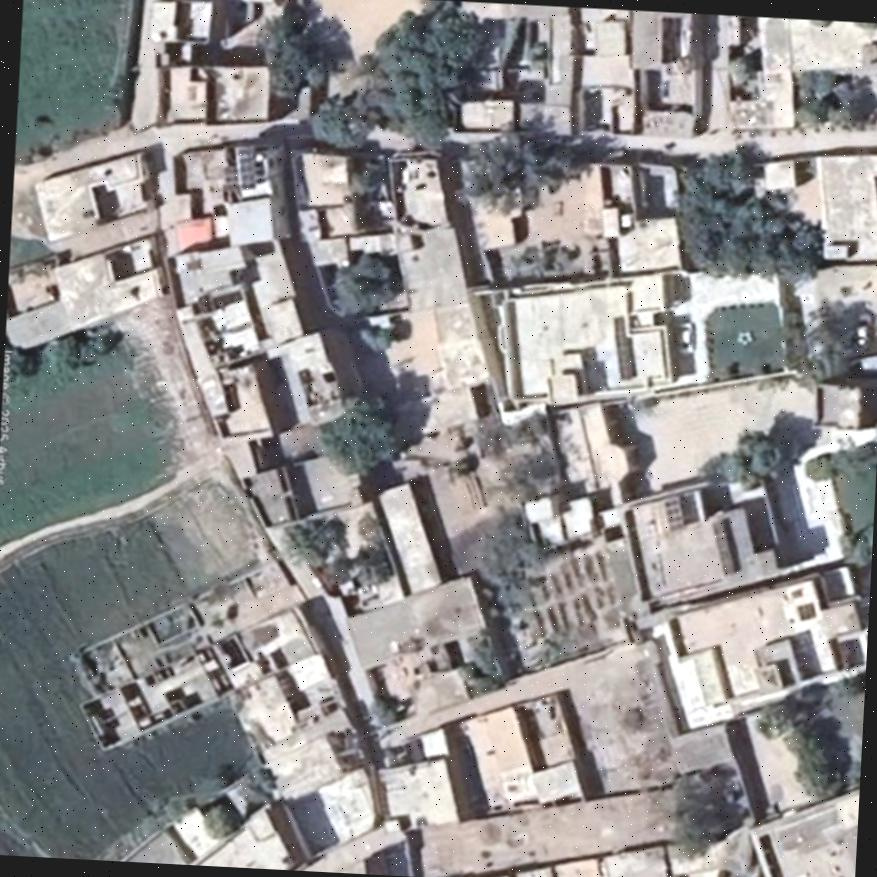Solarpanel: (614, 318, 634, 378)
